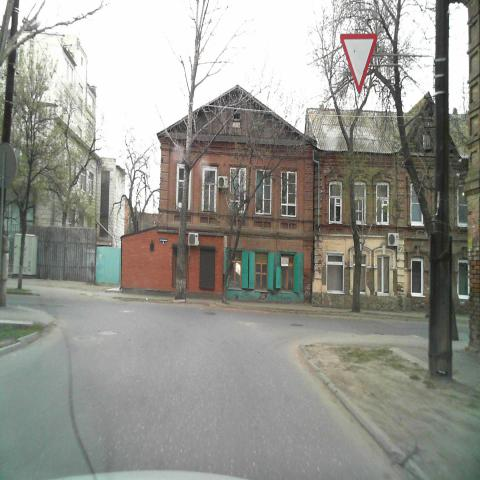2_4: (337, 32, 379, 93)
